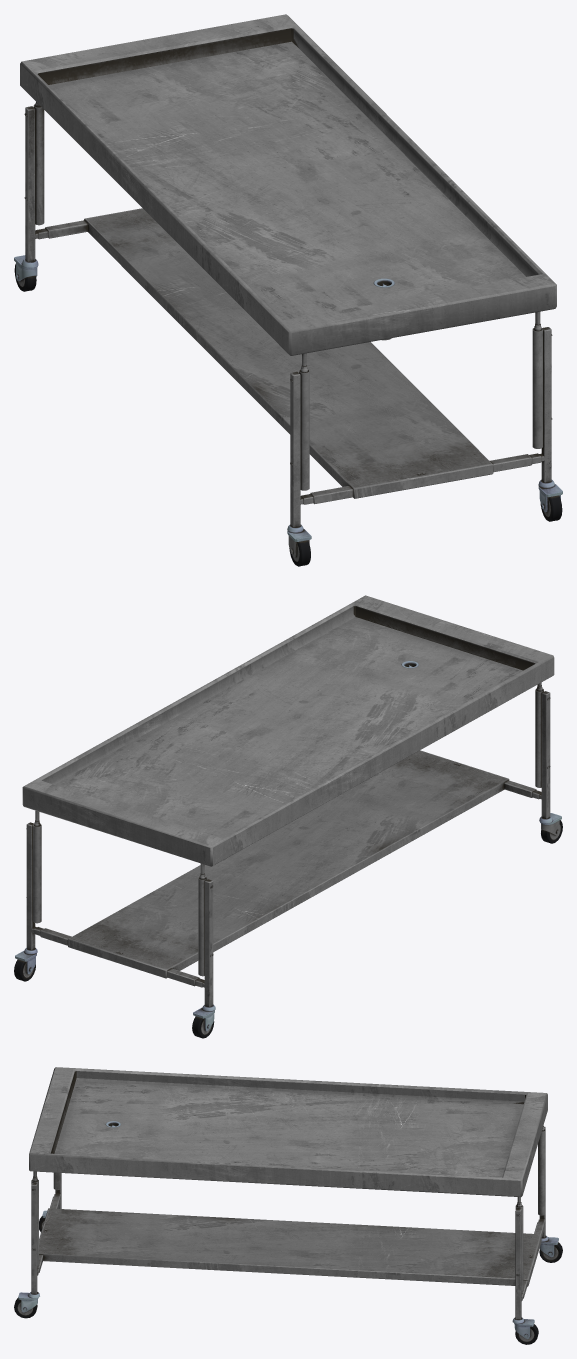
Rendered from medical_table_-_17mb.glb.
3 renders of one model, top to bottom at view 1: azimuth 30°, elevation 25°; view 2: azimuth 150°, elevation 25°; view 3: azimuth 270°, elevation 25°, orthographic. The views are drawn at different scales.
Visible parts, largest first — view 1: Object_14__0, Object_17__0, Object_18__0, Object_19__0; view 2: Object_14__0, Object_17__0, Object_18__0, Object_19__0; view 3: Object_14__0, Object_17__0, Object_19__0, Object_18__0.
Boxes of the visible parts, box(x1,y1,x2,y2) form: Object_14__0: box(20, 14, 556, 498); Object_17__0: box(22, 102, 554, 533); Object_18__0: box(14, 264, 562, 566); Object_19__0: box(14, 255, 562, 557); Object_14__0: box(22, 595, 554, 978); Object_17__0: box(24, 682, 552, 1011); Object_18__0: box(14, 820, 562, 1038); Object_19__0: box(15, 813, 561, 1031); Object_14__0: box(29, 1067, 547, 1286); Object_17__0: box(28, 1125, 548, 1323); Object_19__0: box(18, 1210, 558, 1339); Object_18__0: box(14, 1216, 562, 1344).
Bounding box in the file's own units: 1.17 × 0.7928 × 2.37.
Materials: 1 (1 with a texture image).
